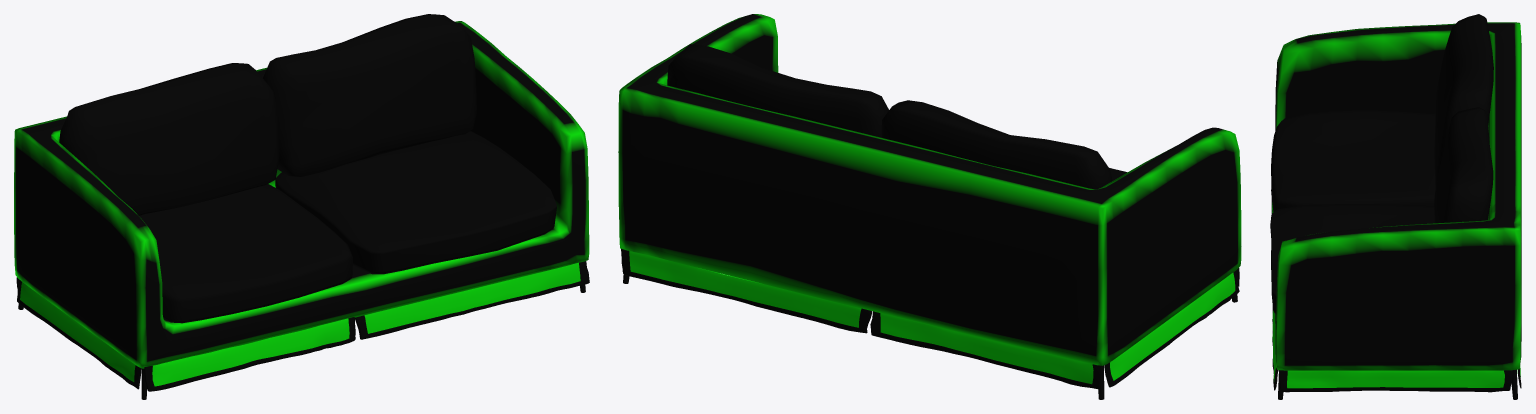
File: oldCouch.fbx
The picture shows the model from 3 angles, left to right: view 1: azimuth 30°, elevation 25°; view 2: azimuth 150°, elevation 25°; view 3: azimuth 270°, elevation 25°; orthographic projection. The views are drawn at different scales.
Parts seen in each view (by area): view 1: couch02_lo; view 2: couch02_lo; view 3: couch02_lo.
Part boxes in pixels (box(x1,y1,x2,y2)): couch02_lo: box(14, 14, 589, 399); couch02_lo: box(618, 14, 1241, 399); couch02_lo: box(1270, 14, 1521, 399).
Bounding box in the file's own units: 4 × 2.02 × 1.78.
